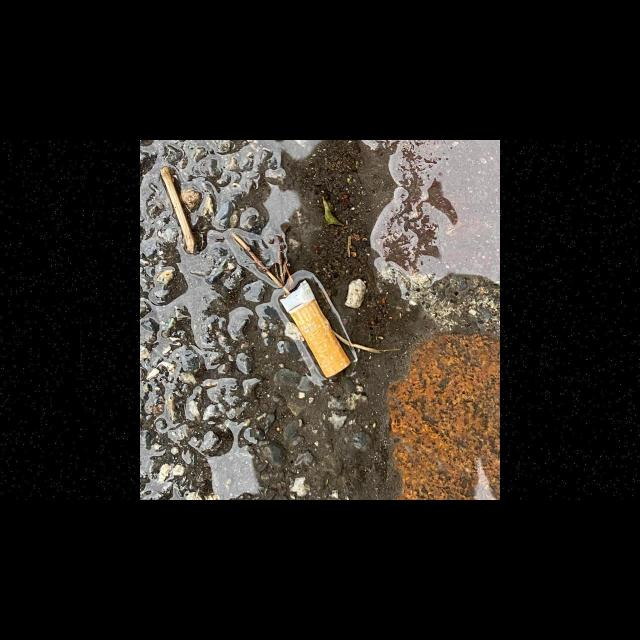cigarette: (279, 279, 352, 378)
